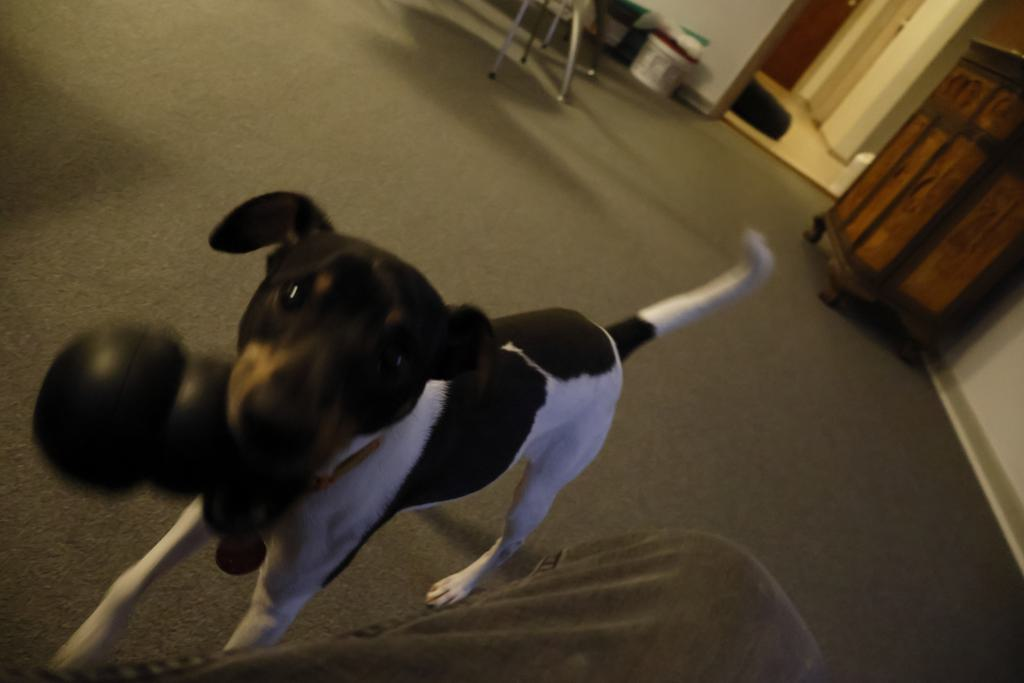Dog: (42, 187, 781, 683)
Humanoid: (0, 510, 842, 683)
